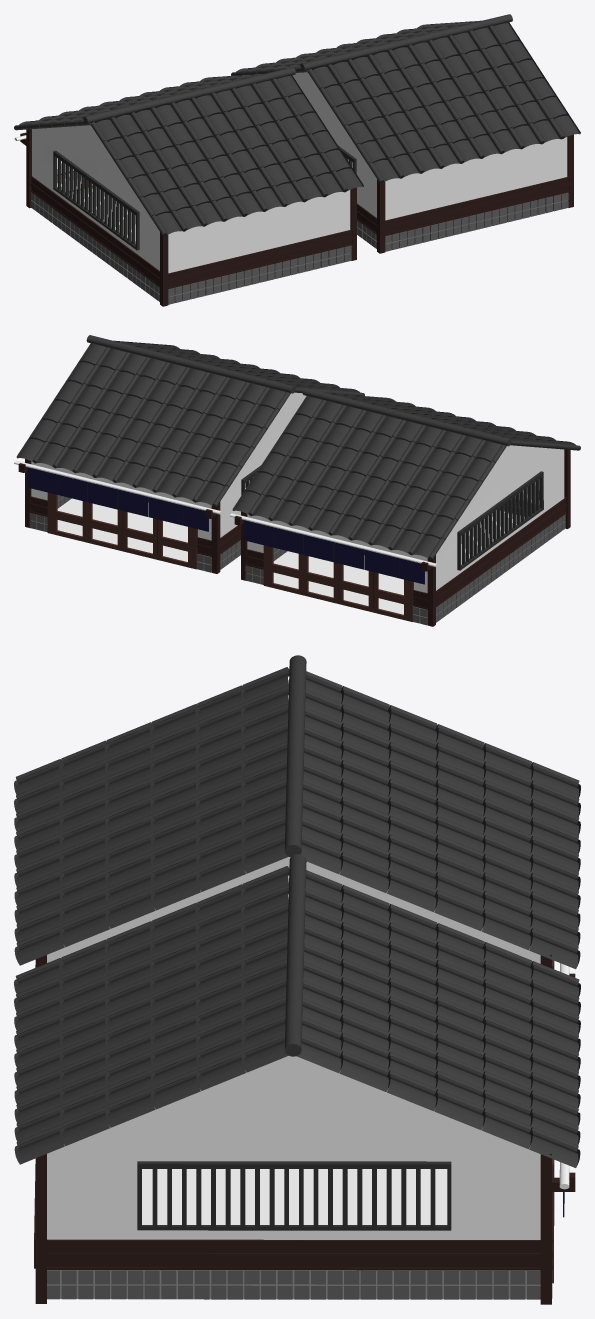
The model's file is build4.glb.
3 views of the same model, one above another, from view 1: azimuth 30°, elevation 25°; view 2: azimuth 150°, elevation 25°; view 3: azimuth 270°, elevation 25° (orthographic). The views are drawn at different scales.
Parts seen in each view (by area): view 1: 瓦.001, 瓦, 老舗.001, 老舗, 老舗7.001, 老舗7, 老舗3.001, 老舗3, 窓.003, 老舗5.001, 老舗2.001, 瓦2.001 (+3 smaller); view 2: 瓦.001, 瓦, 老舗.001, 老舗, 暖簾2, 暖簾2.001, 窓.003, 老舗5.001, 老舗2.001, 瓦2, 瓦2.001, 老舗4.001 (+6 smaller); view 3: 瓦, 瓦.001, 老舗, 老舗6, 老舗2, 窓.001, 老舗.001, 老舗4, 瓦2, 瓦2.001.
Part boxes in pixels (bbox=[...]): 瓦.001: bbox=[14, 73, 363, 236]; 瓦: bbox=[231, 20, 580, 183]; 老舗.001: bbox=[32, 125, 350, 295]; 老舗: bbox=[292, 72, 567, 243]; 老舗7.001: bbox=[168, 229, 352, 288]; 老舗7: bbox=[385, 176, 569, 236]; 老舗3.001: bbox=[168, 245, 351, 304]; 老舗3: bbox=[385, 192, 568, 251]; 窓.003: bbox=[57, 158, 135, 244]; 老舗5.001: bbox=[30, 176, 159, 287]; 老舗2.001: bbox=[31, 192, 159, 301]; 瓦2.001: bbox=[83, 67, 295, 123]; 瓦.001: bbox=[232, 393, 580, 559]; 瓦: bbox=[16, 340, 364, 507]; 老舗.001: bbox=[246, 445, 564, 621]; 老舗: bbox=[30, 392, 306, 569]; 暖簾2: bbox=[27, 467, 208, 531]; 暖簾2.001: bbox=[243, 520, 424, 584]; 窓.003: bbox=[461, 479, 539, 564]; 老舗5.001: bbox=[436, 497, 566, 607]; 老舗2.001: bbox=[273, 514, 565, 622]; 瓦2: bbox=[86, 335, 295, 393]; 瓦2.001: bbox=[302, 388, 511, 446]; 老舗4.001: bbox=[234, 449, 570, 626]; 瓦: bbox=[14, 866, 580, 1167]; 瓦.001: bbox=[14, 667, 580, 969]; 老舗: bbox=[47, 879, 554, 1299]; 老舗6: bbox=[47, 1239, 540, 1270]; 老舗2: bbox=[47, 1270, 540, 1299]; 窓.001: bbox=[152, 1169, 435, 1227]; 老舗.001: bbox=[47, 680, 554, 968]; 老舗4: bbox=[35, 1153, 575, 1304]; 瓦2: bbox=[284, 854, 306, 1056]; 瓦2.001: bbox=[284, 655, 306, 857].
Size of what is drawn, in the model's own units: 2.49 by 0.7888 by 1.53.
